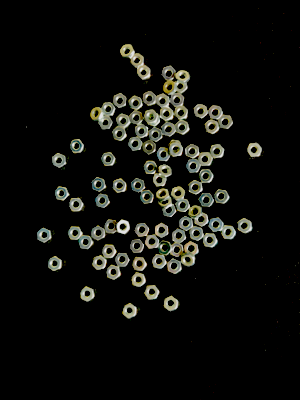nut: (163, 295, 179, 312), (122, 303, 138, 319), (144, 285, 160, 301), (151, 254, 167, 270), (202, 233, 218, 249), (131, 272, 146, 288), (105, 265, 121, 280), (92, 255, 107, 271), (48, 256, 63, 272), (167, 259, 182, 275), (129, 239, 145, 254), (172, 228, 187, 244), (189, 226, 204, 242), (208, 218, 224, 233), (199, 193, 215, 208), (54, 186, 70, 201), (209, 144, 225, 159), (168, 143, 184, 158), (142, 140, 157, 156), (128, 137, 144, 152), (175, 120, 190, 136), (205, 119, 220, 135), (218, 115, 234, 130), (175, 70, 191, 85), (136, 65, 151, 81), (130, 53, 145, 69), (120, 44, 135, 60), (246, 143, 263, 157), (80, 287, 95, 302), (132, 257, 147, 272), (145, 235, 160, 250), (158, 241, 173, 256), (78, 235, 93, 250), (37, 228, 52, 243), (116, 220, 131, 235), (135, 223, 150, 238), (179, 216, 194, 231), (199, 169, 214, 184), (139, 190, 154, 205), (112, 178, 127, 193), (95, 193, 110, 208), (91, 177, 106, 192), (186, 159, 201, 174), (70, 139, 85, 154), (52, 153, 67, 168), (185, 144, 200, 159), (156, 147, 171, 162), (112, 127, 127, 142), (148, 128, 163, 143), (209, 105, 224, 120), (194, 104, 209, 119), (90, 107, 105, 122), (116, 114, 131, 129), (129, 96, 144, 111), (170, 92, 185, 107), (162, 66, 177, 81), (101, 245, 117, 259), (67, 226, 83, 240), (238, 218, 252, 234), (175, 200, 191, 214), (214, 190, 230, 204), (189, 180, 203, 196), (131, 178, 145, 194), (68, 198, 84, 212), (198, 153, 214, 167), (113, 93, 127, 109), (115, 253, 130, 267), (181, 252, 195, 267), (91, 226, 105, 241), (155, 223, 169, 238), (221, 226, 236, 240), (194, 213, 209, 227), (188, 206, 203, 220), (162, 204, 177, 218), (158, 196, 173, 210), (171, 187, 186, 201), (158, 164, 172, 179), (143, 161, 158, 175), (101, 153, 116, 167), (135, 124, 149, 139), (162, 122, 176, 137), (129, 111, 144, 125), (144, 110, 158, 125), (160, 107, 174, 122), (174, 106, 189, 120), (143, 92, 157, 107), (163, 81, 177, 96), (98, 117, 114, 130), (185, 242, 199, 256), (102, 102, 116, 116), (156, 94, 170, 108), (171, 243, 184, 258), (152, 174, 167, 187), (104, 220, 117, 234), (156, 189, 170, 202), (168, 140, 181, 153), (148, 114, 161, 127), (175, 81, 188, 94)
